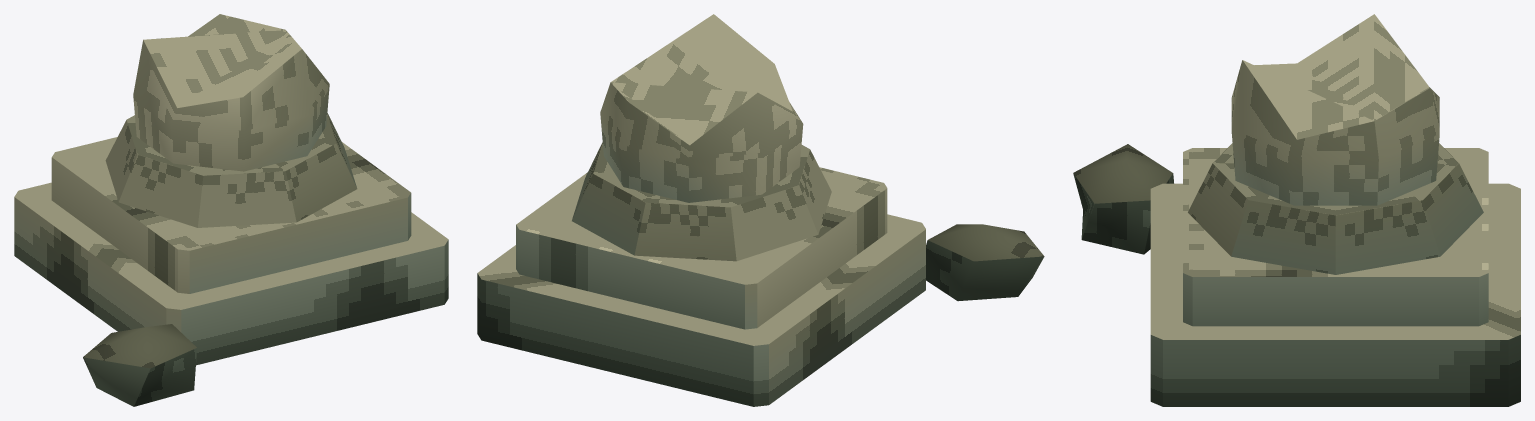
File: ruin.column__stump.glb
The picture shows the model from 3 angles, left to right: view 1: azimuth 30°, elevation 25°; view 2: azimuth 150°, elevation 25°; view 3: azimuth 270°, elevation 25°; orthographic projection. The views are drawn at different scales.
Parts seen in each view (by area): view 1: kit_plinth, kit_shaft, kit_base, kit_fallen; view 2: kit_plinth, kit_shaft, kit_base, kit_fallen; view 3: kit_plinth, kit_shaft, kit_base, kit_fallen.
Boxes of the visible parts, box(x1,y1,x2,y2) form: kit_plinth: box(14, 137, 448, 365); kit_shaft: box(133, 14, 329, 171); kit_base: box(105, 113, 357, 227); kit_fallen: box(83, 324, 196, 406); kit_plinth: box(477, 167, 925, 406); kit_shaft: box(600, 14, 803, 202); kit_base: box(572, 142, 831, 261); kit_fallen: box(926, 224, 1044, 301); kit_plinth: box(1150, 148, 1520, 406); kit_shaft: box(1231, 14, 1439, 205); kit_base: box(1188, 143, 1483, 274); kit_fallen: box(1073, 144, 1173, 254).
Size of the model in its own units: 2.03 by 1.28 by 1.81.
4 materials, 4 textured.
